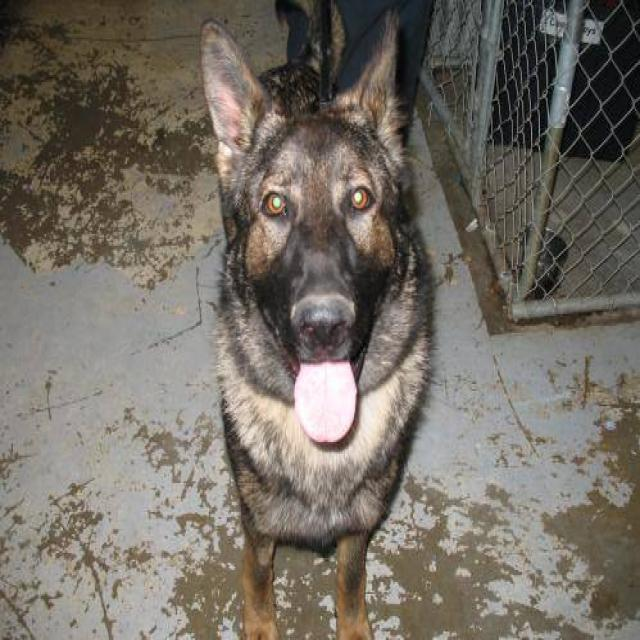dog: (197, 0, 436, 638)
